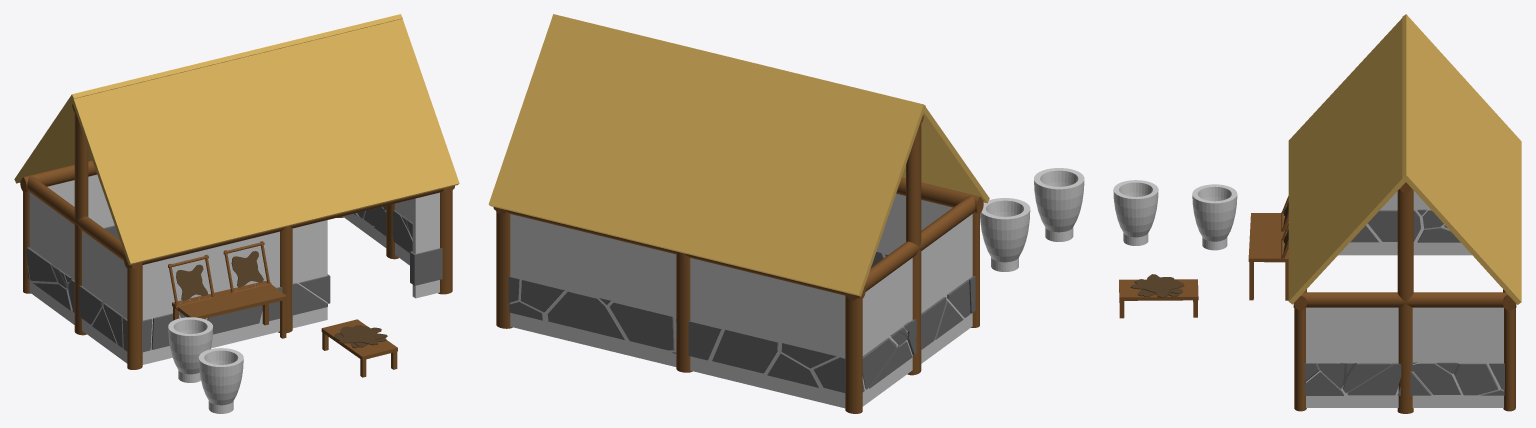
File: Tannery.fbx
3 views of the same model, side by side, from view 1: azimuth 30°, elevation 25°; view 2: azimuth 150°, elevation 25°; view 3: azimuth 270°, elevation 25° (orthographic). The views are drawn at different scales.
Visible parts, largest first — view 1: Roof, Clay Walls, Struts, Stone Walls, Vases, Table, Racks, Table.001, Leather; view 2: Roof, Clay Walls, Stone Walls, Struts, Vases; view 3: Roof, Clay Walls, Struts, Stone Walls, Vases, Table, Table.001, Leather, Racks.
Boxes of the visible parts, x1,y1,x2,y2 form: Roof: [14, 14, 459, 264]; Clay Walls: [29, 174, 439, 364]; Struts: [20, 104, 454, 369]; Stone Walls: [26, 206, 442, 352]; Vases: [168, 317, 243, 413]; Table: [172, 280, 286, 338]; Racks: [168, 241, 271, 309]; Table.001: [321, 319, 397, 377]; Leather: [334, 325, 387, 348]; Roof: [488, 14, 989, 296]; Clay Walls: [510, 193, 972, 408]; Stone Walls: [508, 251, 975, 393]; Struts: [493, 115, 983, 413]; Vases: [980, 168, 1084, 271]; Roof: [1288, 14, 1521, 304]; Clay Walls: [1306, 191, 1503, 407]; Struts: [1293, 182, 1516, 413]; Stone Walls: [1304, 209, 1504, 395]; Vases: [1113, 180, 1237, 250]; Table: [1248, 213, 1288, 300]; Table.001: [1119, 279, 1198, 318]; Leather: [1131, 274, 1184, 297]; Racks: [1281, 196, 1288, 260].
Bounding box in the file's own units: 185 × 127 × 195.
